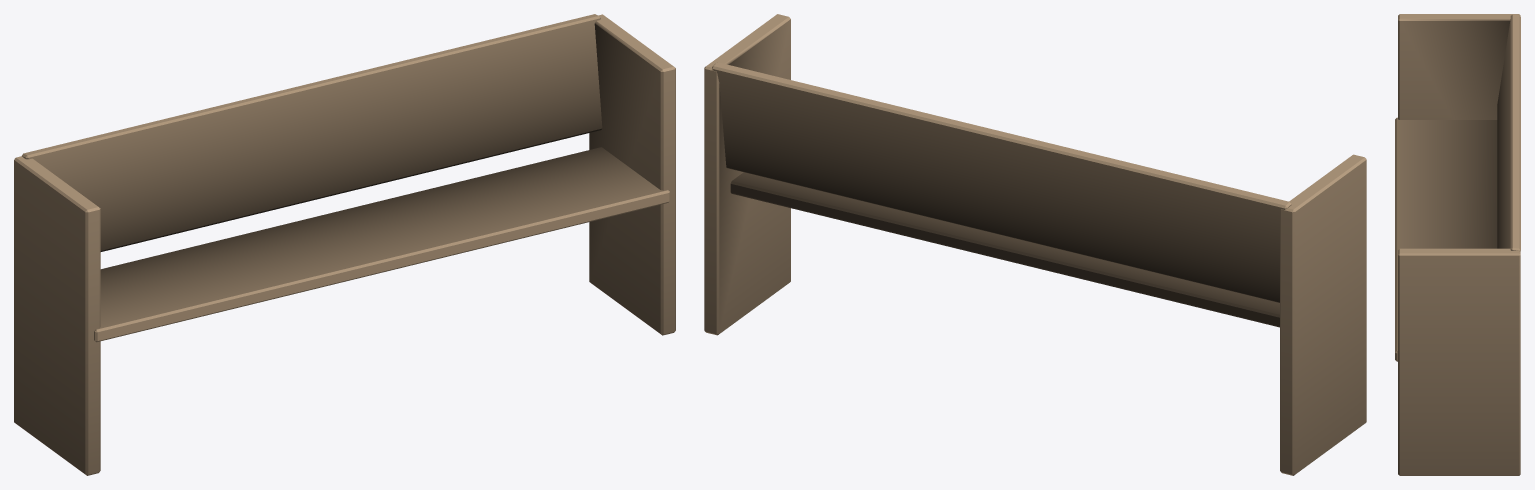
File: pew.glb
3 renders of one model, left to right at view 1: azimuth 30°, elevation 25°; view 2: azimuth 150°, elevation 25°; view 3: azimuth 270°, elevation 25°, orthographic. The views are drawn at different scales.
Visible parts, largest first — view 1: pew; view 2: pew; view 3: pew.
Part boxes in pixels (bbox=[...]): pew: bbox=[14, 14, 675, 475]; pew: bbox=[704, 14, 1366, 475]; pew: bbox=[1395, 14, 1520, 475].
Bounding box in the file's own units: 1.95 × 0.8499 × 0.4302.
